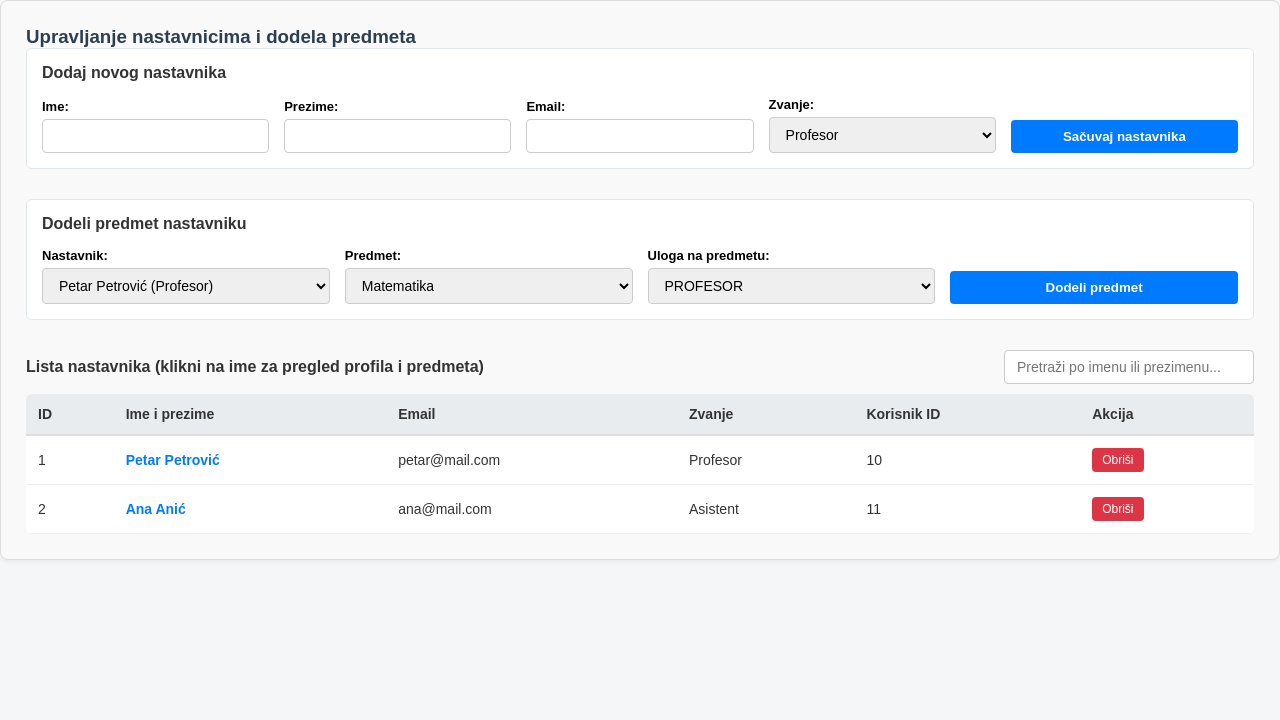
Scenario: AdminNastavnici Component - Comprehensive Tests › omogućava pretragu nastavnika po imenu ili prezimenu
Check: the text "Petar Petrović" is shown, box [114,435,386,484]
Note: Pretraga postojećeg
In the field with placeholder "Pretraži po imenu ili prezimenu...": (1129, 367) [1004,350,1254,384], type "Petar"
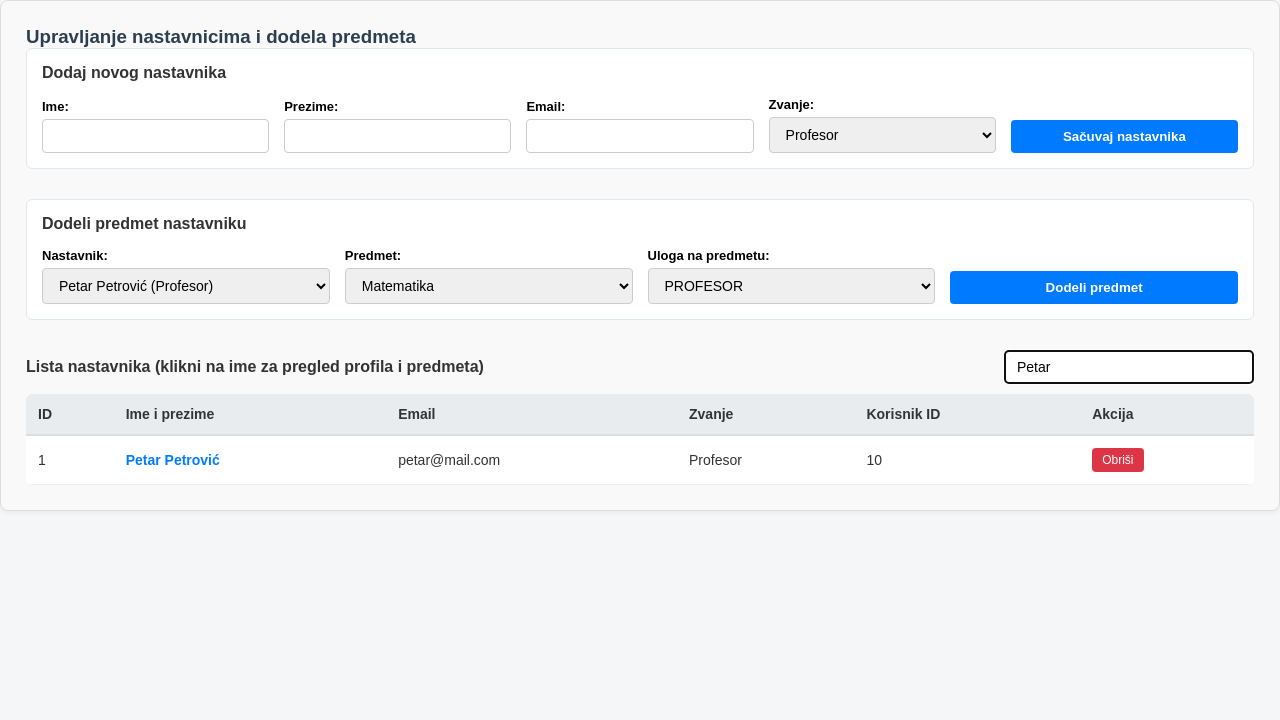
Check: the text "Petar Petrović" is shown, box [114,435,386,484]
Check: the text "Ana Anić" is gone
Note: Brisanje pretrage vraća celu listu
Clear the 4th field with placeholder "Pretraži po imenu ili prezimenu...": (1129, 367) [1004,350,1254,384]
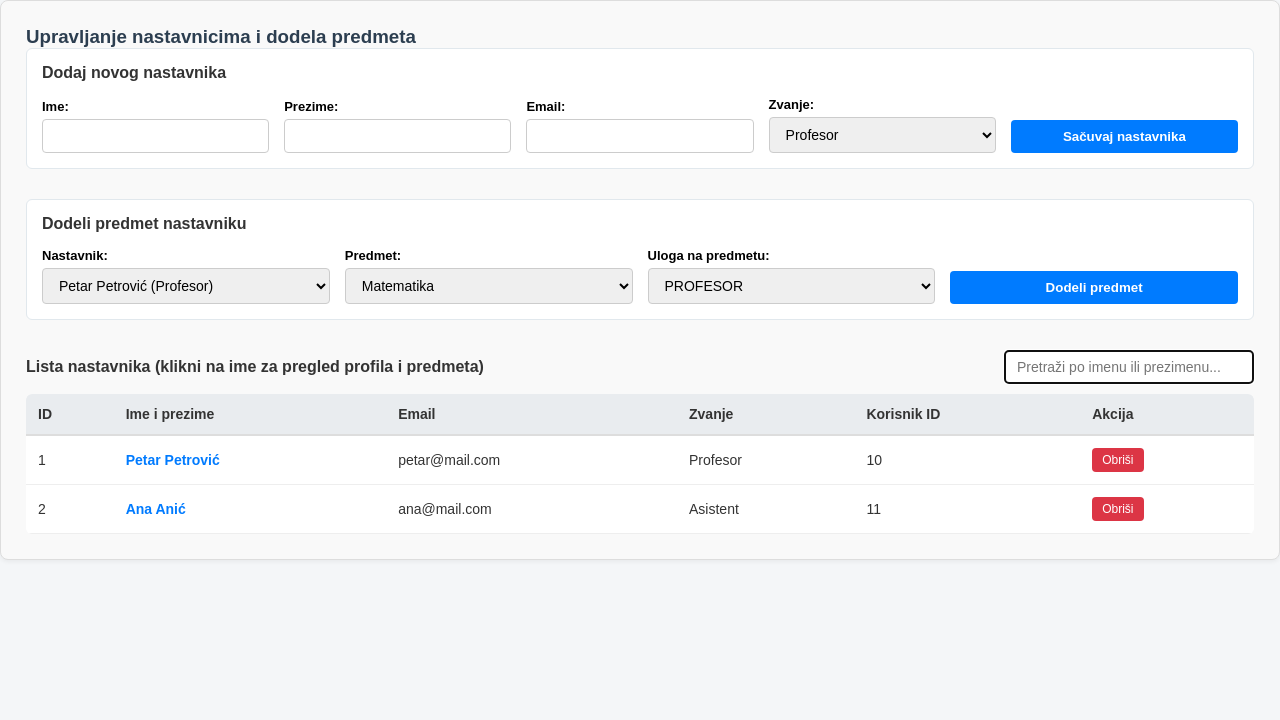
Check: the text "Petar Petrović" is shown, box [114,435,386,484]
Check: the text "Ana Anić" is shown, box [114,484,386,534]
